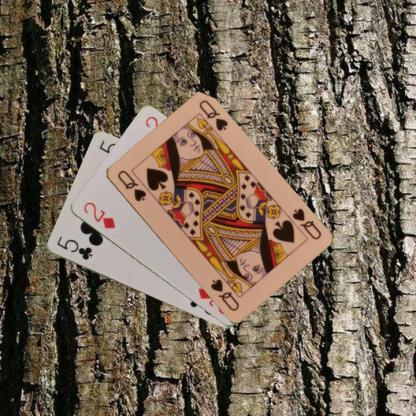2d: (80, 200, 116, 231)
5c: (54, 233, 94, 262)
Qs: (288, 205, 322, 241), (114, 167, 148, 202)
